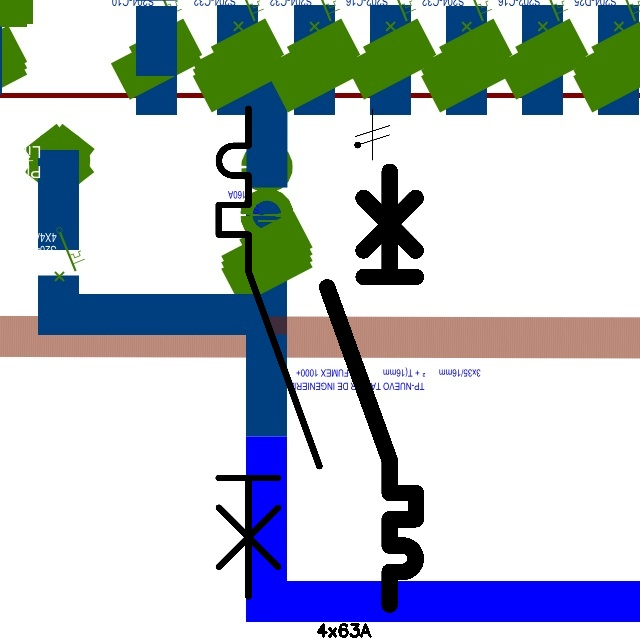interruptor_termomagnetico: (206, 96, 331, 609), (316, 160, 427, 615)
